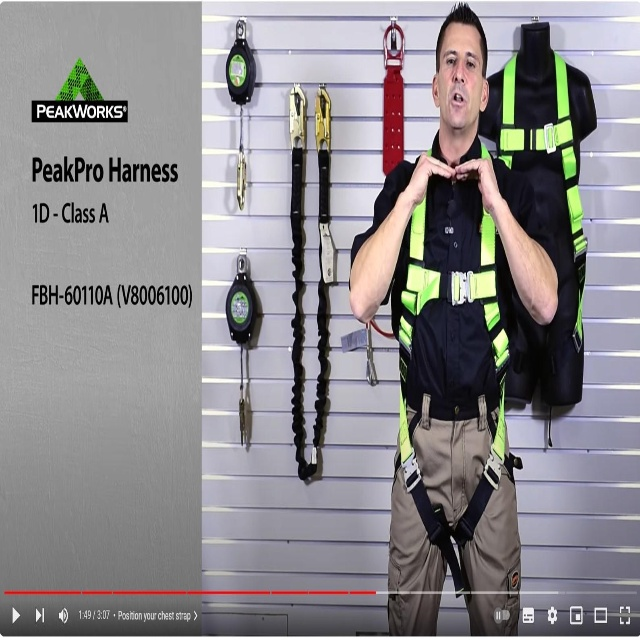Arnes_seguridad: (398, 145, 519, 600)
